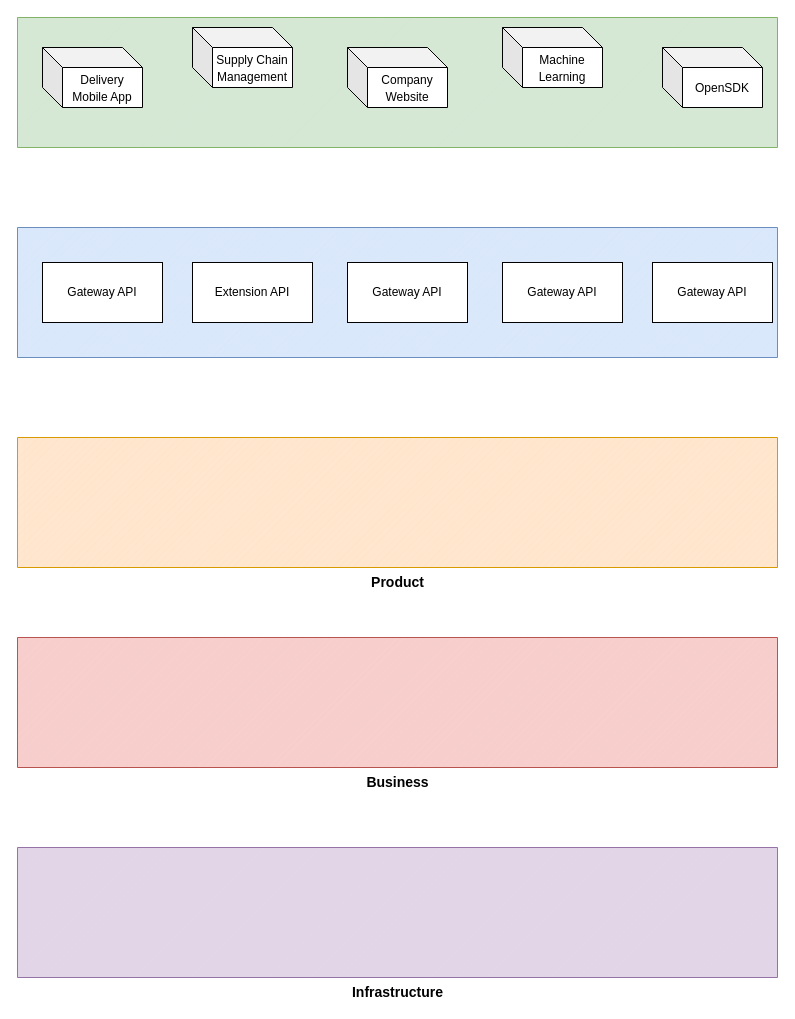
This 795x1019 diagram has some shape labels left out. Each missing label, with the box of its shape:
Edge: (16, 16, 778, 148)
Presentation: (16, 226, 778, 358)
